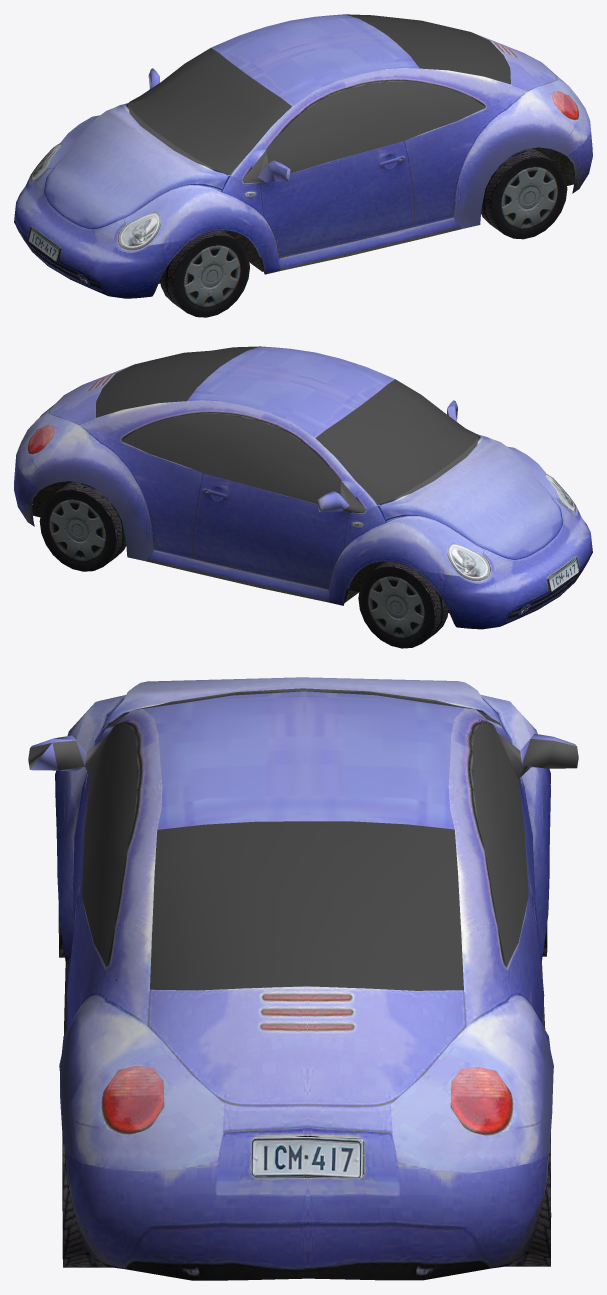
The model's file is car.gltf.
3 renders of one model, top to bottom at view 1: azimuth 30°, elevation 25°; view 2: azimuth 150°, elevation 25°; view 3: azimuth 270°, elevation 25°, orthographic. The views are drawn at different scales.
Visible parts, largest first — view 1: 轿车03; view 2: 轿车03; view 3: 轿车03.
Boxes of the visible parts, x1,y1,x2,y2 form: 轿车03: (14,14,592,317); 轿车03: (14,346,592,648); 轿车03: (28,677,578,1280).
Bounding box in the file's own units: 4.23 × 1.44 × 1.94.
Materials: 18 (14 with a texture image).
